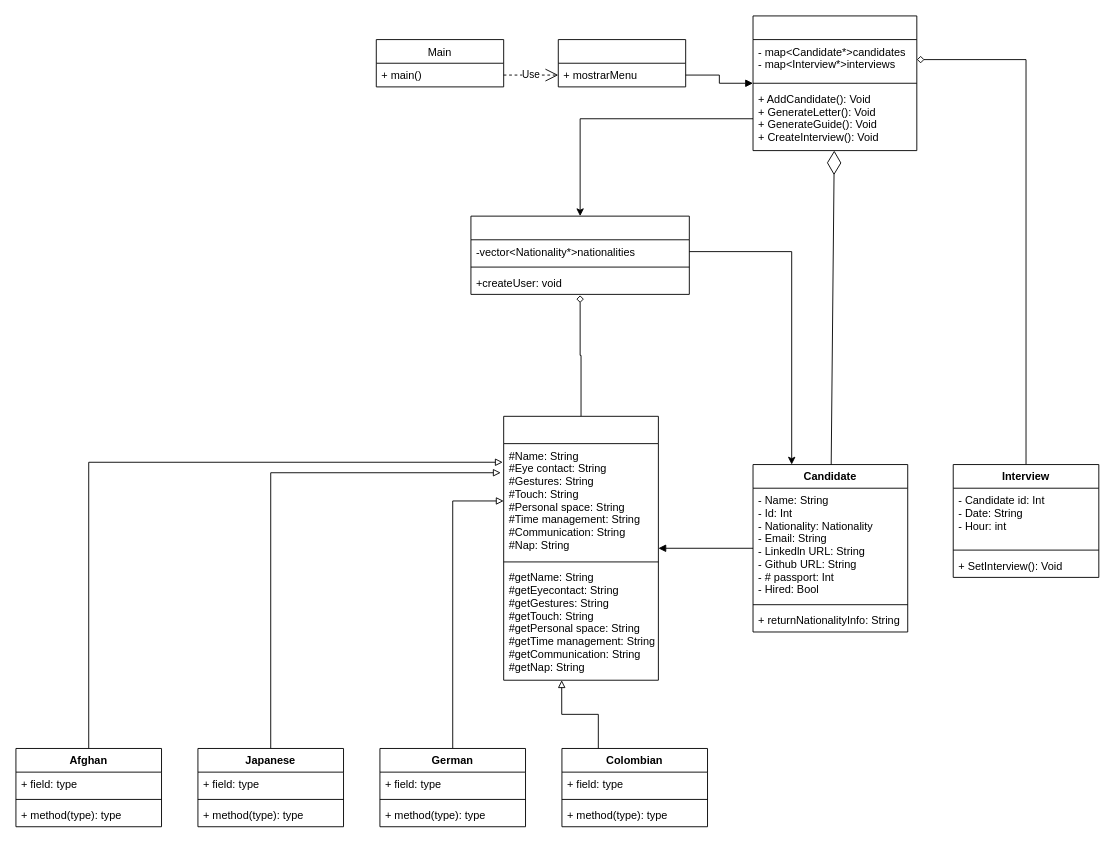
This 1115x845 diagram has some shape labels left out. Each missing label, with the box of its shape:
Factory: (470, 215, 689, 294)
Nationality: (503, 415, 658, 680)
System: (752, 15, 917, 151)
View: (557, 39, 686, 87)
